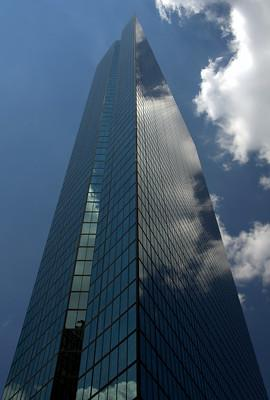building: (1, 10, 270, 400)
